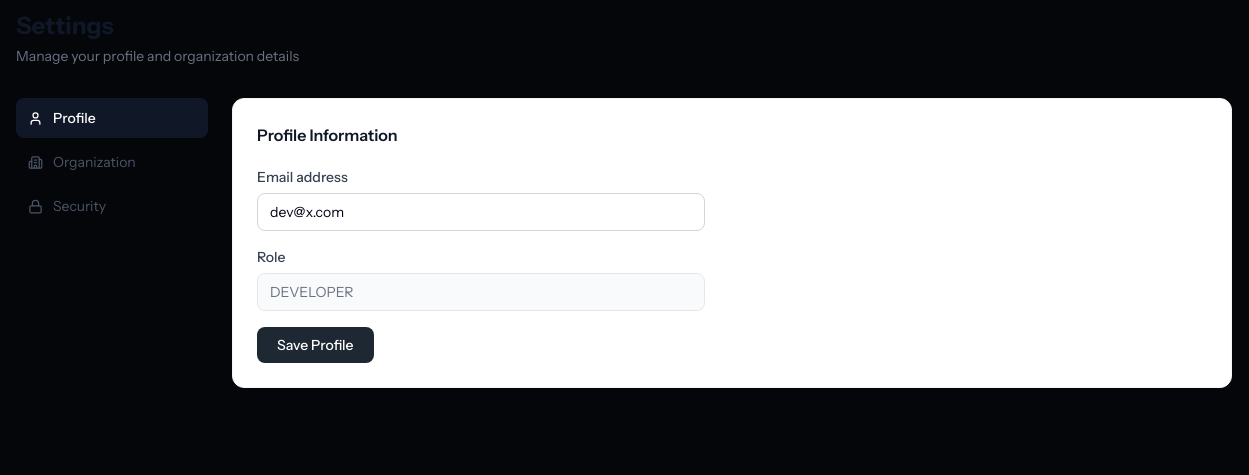
Test case: SettingsPage › saves the profile via PUT and shows the saved banner
Step 1. Replace the text in the field showing "dev@x.com" below "Email address" with "new@x.com" → coordinates (481, 212), box [257,193,705,231]
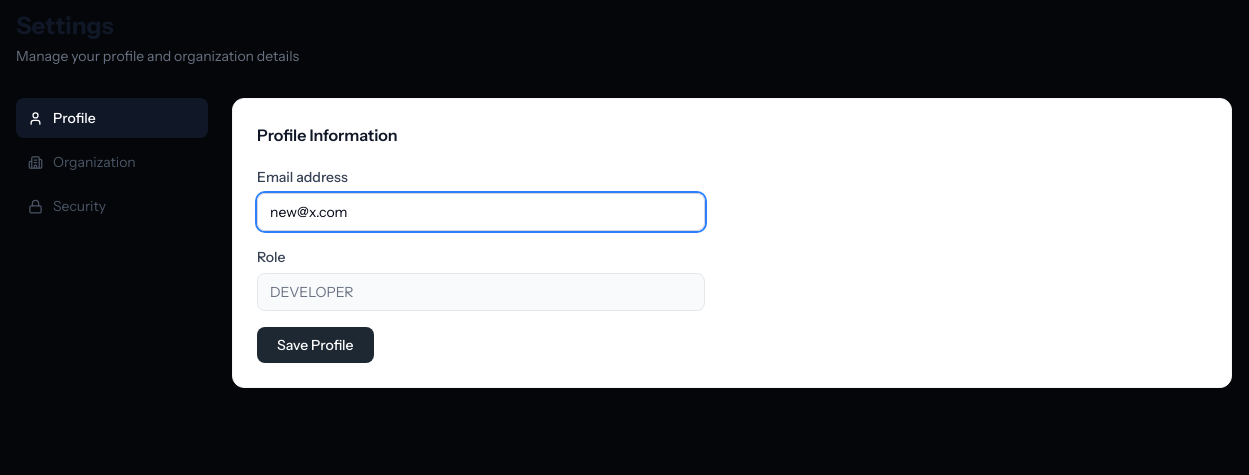
Step 2. Click the button "Save Profile" → coordinates (315, 345), box [257,327,374,363]
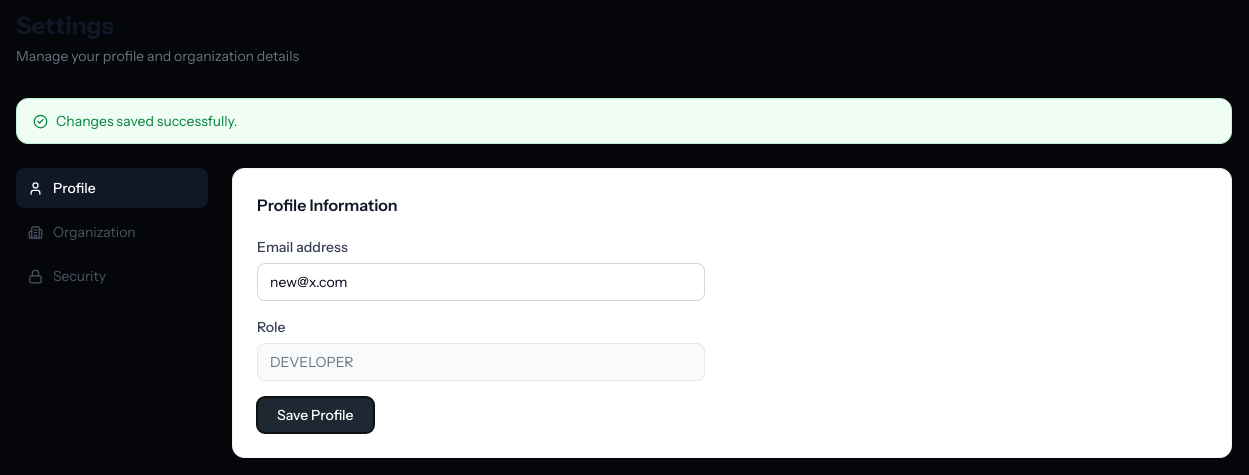
Check: the text "Changes saved successfully." is shown, box [16,98,1232,144]
